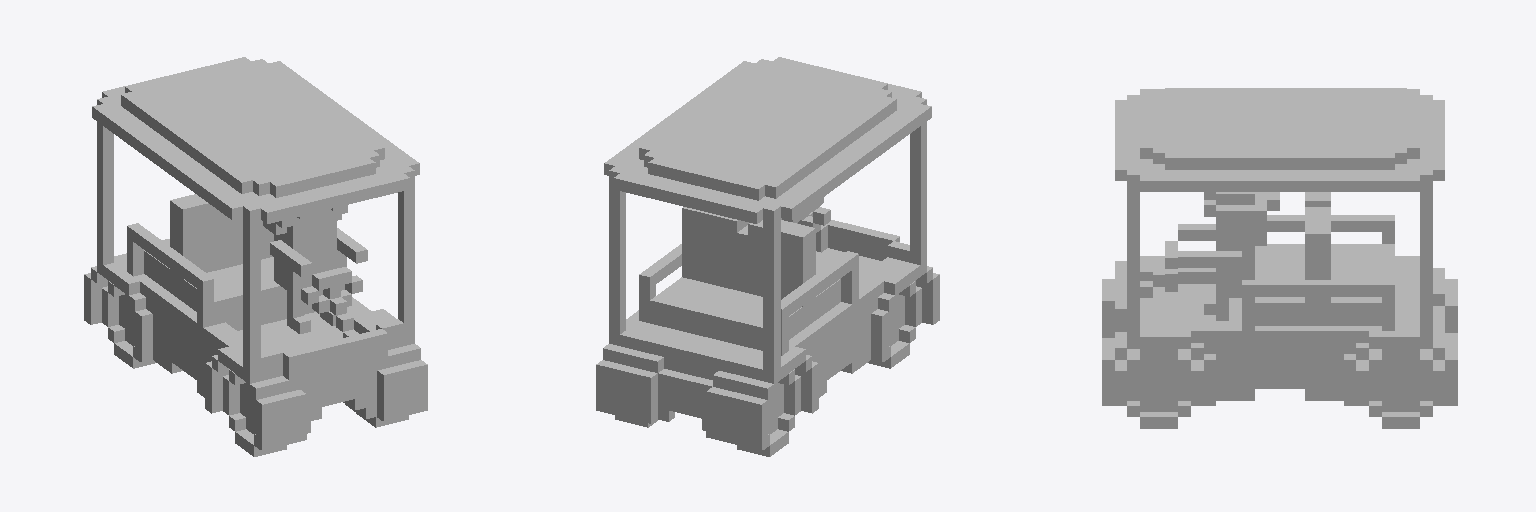
The model's file is golfcart.obj.
The picture shows the model from 3 angles: view 1: azimuth 30°, elevation 25°; view 2: azimuth 150°, elevation 25°; view 3: azimuth 270°, elevation 25°; orthographic projection.
Parts seen in each view (by area): view 1: golfcart; view 2: golfcart; view 3: golfcart.
Boxes of the visible parts, <box> form: golfcart: <box>84,57,427,456</box>; golfcart: <box>596,57,939,456</box>; golfcart: <box>1102,88,1457,428</box>.
Bounding box in the file's own units: 17 × 23 × 28.